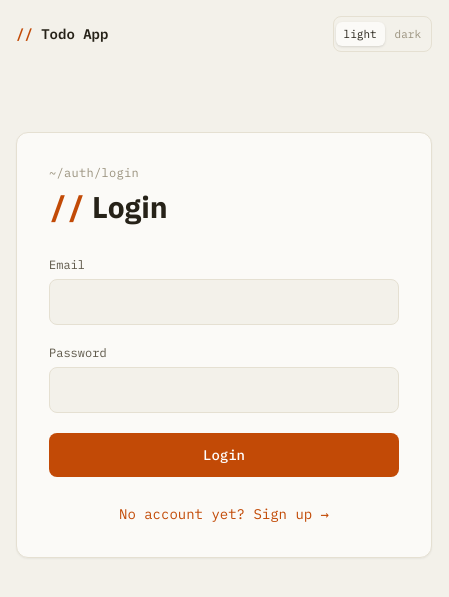
Test case: Pages tests › Login Page › should validate password length
Step 1. Type "john@example.com" into the field labelled "Email" → {"x": 224, "y": 302}, box [49,279,399,325]
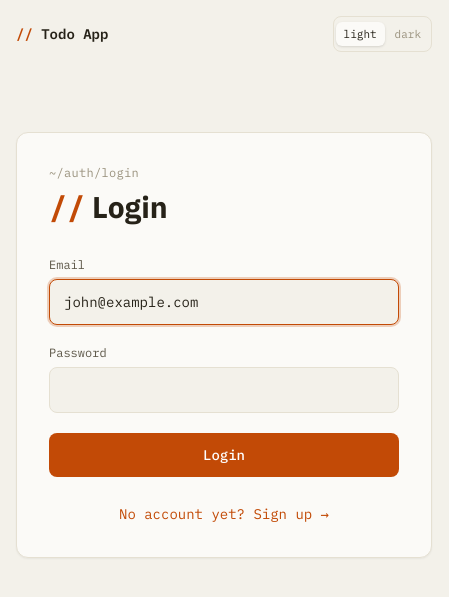
Step 2. Type "123" into the password field labelled "Password" → {"x": 224, "y": 390}, box [49,367,399,413]
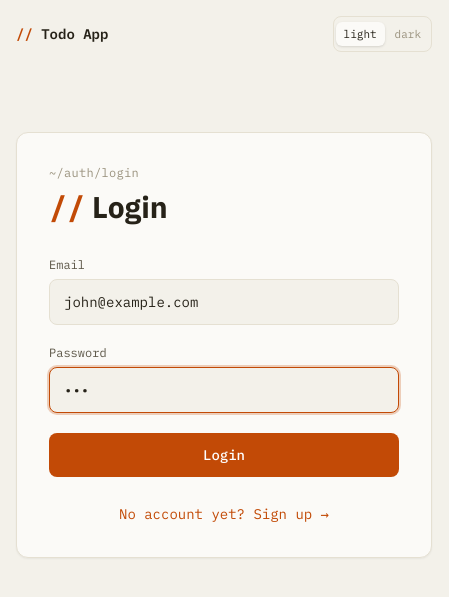
Step 3. Click the button "Login" → {"x": 224, "y": 455}, box [49,433,399,477]
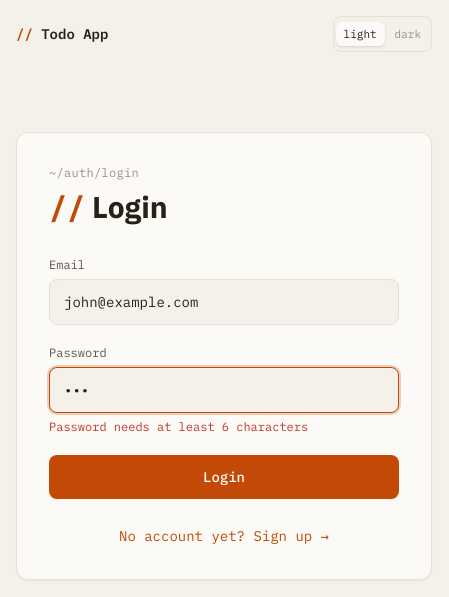
Result: the text "Password needs at least 6 characters" is shown at [49,419,308,434]
